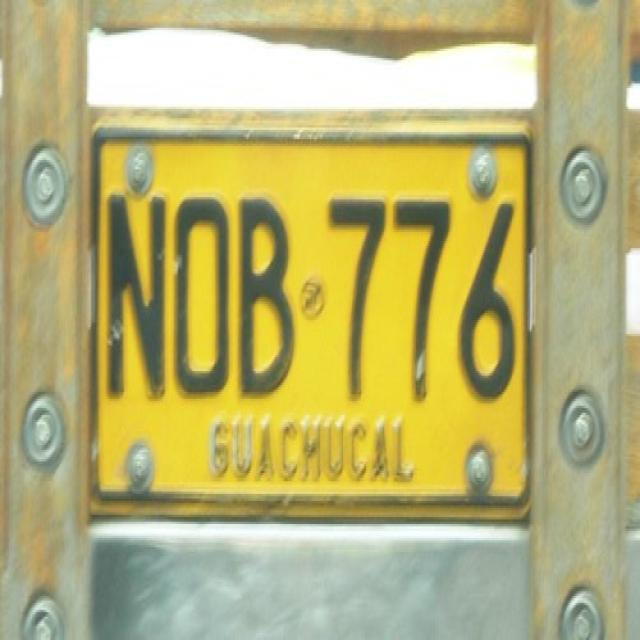placa_carro: (78, 96, 537, 542)
